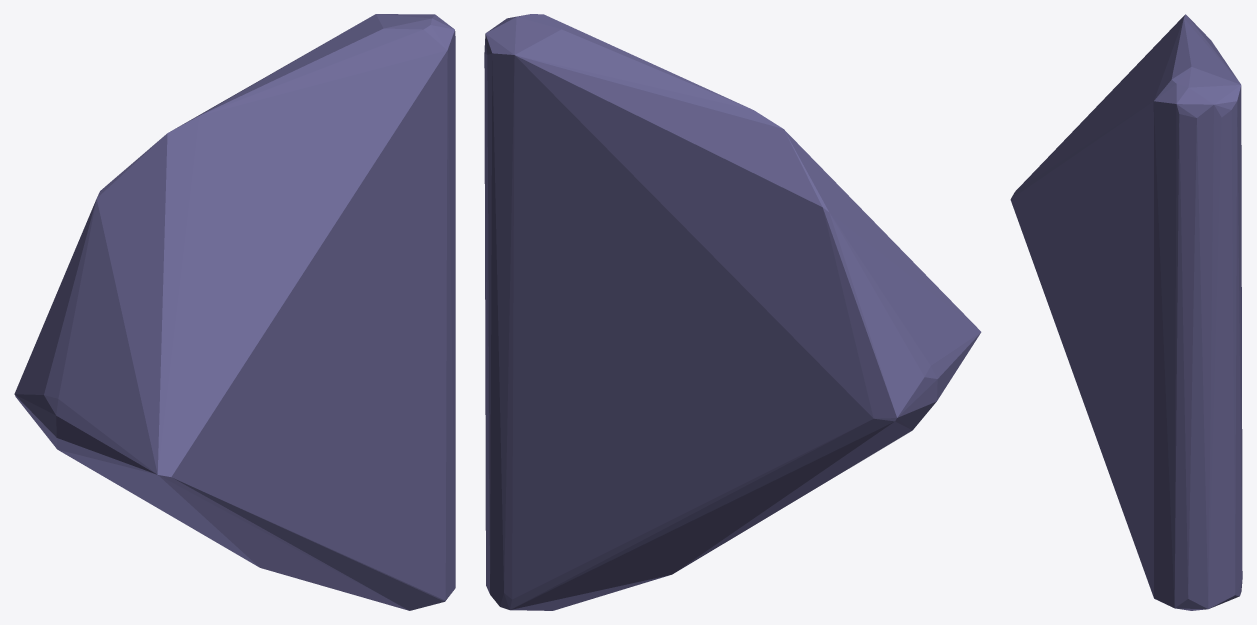
Rendered from suspension_controlArm_upper_a01.glb.
3 views of the same model, side by side, from view 1: azimuth 30°, elevation 25°; view 2: azimuth 150°, elevation 25°; view 3: azimuth 270°, elevation 25° (orthographic). The views are drawn at different scales.
Visible parts, largest first — view 1: geometry_0; view 2: geometry_0; view 3: geometry_0.
Boxes of the visible parts, box(x1,y1,x2,y2) form: geometry_0: box(14, 14, 455, 610); geometry_0: box(484, 14, 981, 610); geometry_0: box(1010, 14, 1242, 610).
Size of the model in its own units: 0.3656 by 0.48 by 0.1928.
